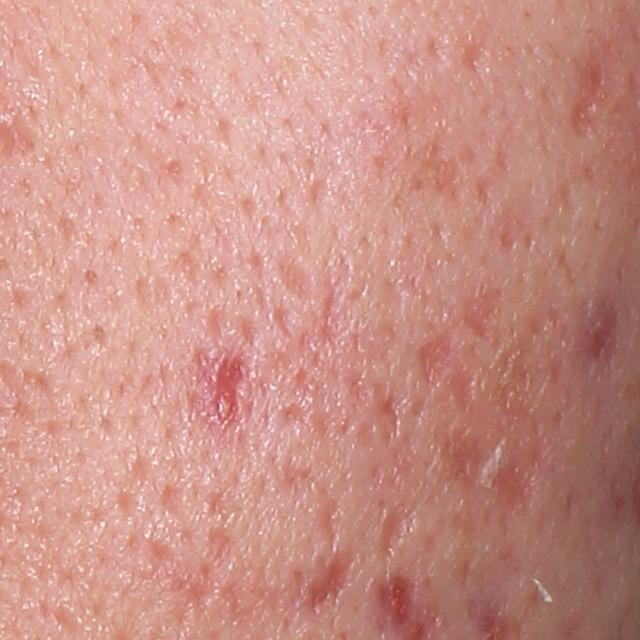atrophic_scar: (441, 427, 539, 516), (303, 544, 361, 624), (413, 335, 470, 412), (460, 284, 503, 350), (275, 246, 318, 311), (214, 354, 245, 424), (317, 488, 346, 561), (155, 480, 192, 537), (376, 499, 410, 560), (208, 523, 241, 581), (382, 388, 404, 442), (463, 37, 488, 73), (497, 219, 518, 252)
